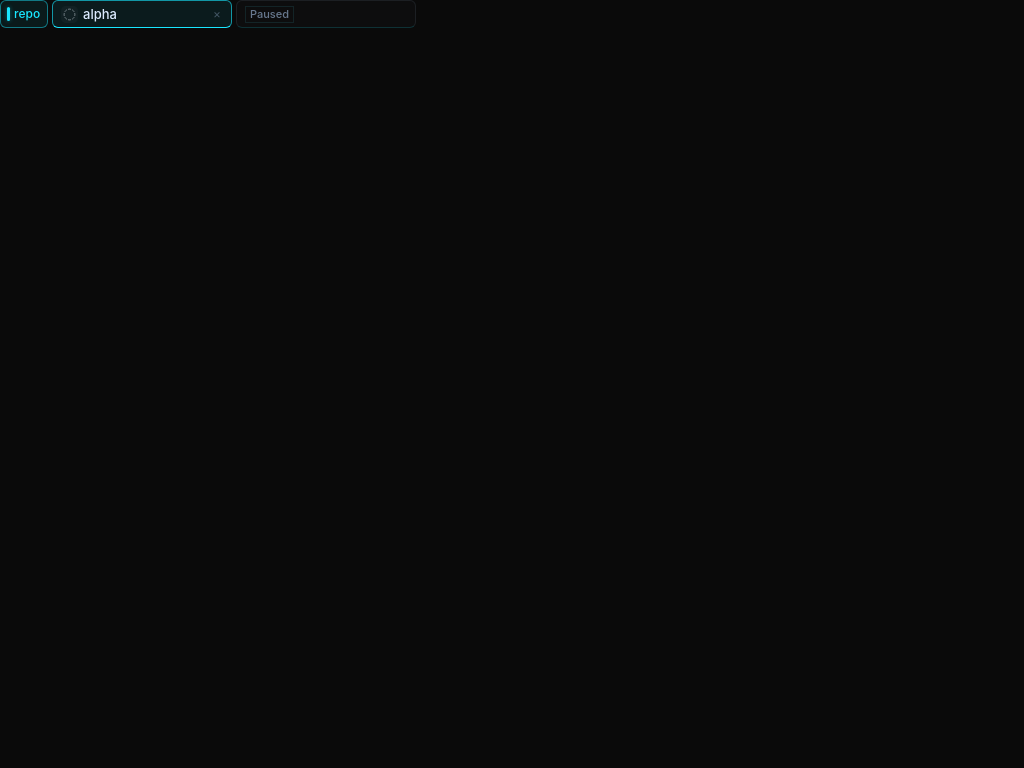
TabStrip turn-state glyphs (D22) › a stopped tab right-click offers Pin — the split shows retained history (D26/D27)
Right-click the element showing "Paused" at [326, 14], box [236,0,416,28]
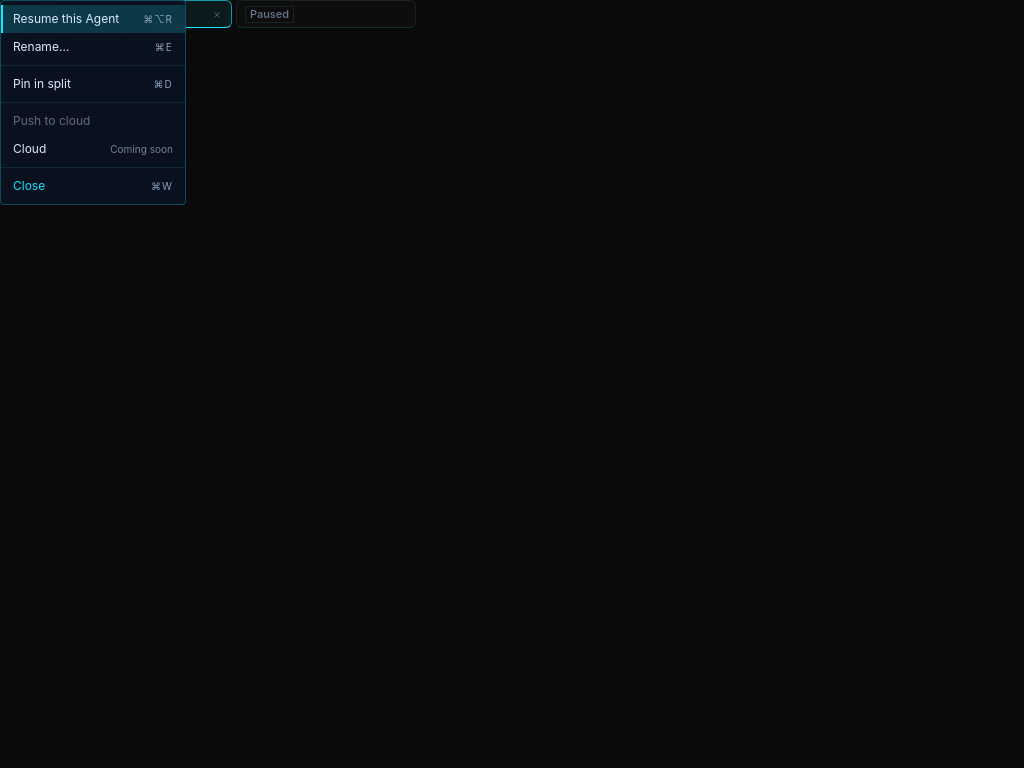
Now the menu shows "Pin in split", box [13,76,71,91]
Now the menu shows "Resume this Agent", box [13,11,119,26]
Now the menu shows "Close", box [13,178,45,193]
